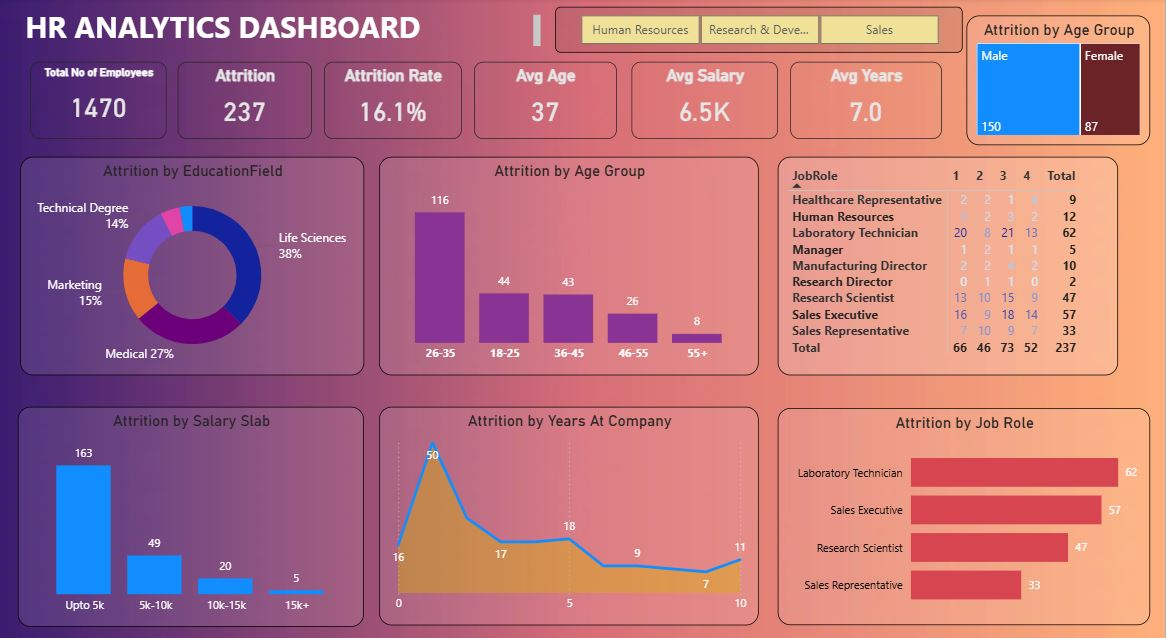

The page's visual inventory and layout, read from the dashboard file:
{"tool":"powerbi","page":{"name":"Page 1","canvas":[1280,720],"ordinal":0},"visuals":[{"type":"card","title":"Total No of Employees","fields":{"Values":["CountNonNull(HR_Analytics.EmpID)"]},"box":[34.3,70,149.6,85.1],"z":0},{"type":"card","title":"Attrition Rate","fields":{"Values":["HR_Analytics.AttritionRate"]},"box":[356.8,70,150.9,85.1],"z":1000},{"type":"card","title":"Attrition","fields":{"Values":["Sum(HR_Analytics.attritioncount)"]},"box":[196.2,70,146.8,85.1],"z":2000},{"type":"card","title":"Avg Age","fields":{"Values":["Avg(HR_Analytics.Age)"]},"box":[521.4,70,156.4,85.1],"z":3000},{"type":"card","title":"Avg Years","fields":{"Values":["Avg(HR_Analytics.YearsAtCompany)"]},"box":[868.6,70,166,85.1],"z":4000},{"type":"card","title":"Avg Salary","fields":{"Values":["Avg(HR_Analytics.MonthlyIncome)"]},"box":[694.3,70,160.5,85.1],"z":5000},{"type":"donutChart","title":"Attrition by EducationField","fields":{"Category":["HR_Analytics.EducationField"],"Y":["Sum(HR_Analytics.attritioncount)"]},"box":[23.3,174.3,377.4,240.1],"z":6000},{"type":"columnChart","title":"Attrition by Age Group","fields":{"Category":["HR_Analytics.AgeGroup"],"Y":["Sum(HR_Analytics.attritioncount)"]},"box":[417.2,174.3,417.2,240.1],"z":7000},{"type":"pivotTable","fields":{"Rows":["HR_Analytics.JobRole"],"Columns":["HR_Analytics.JobSatisfaction"],"Values":["Sum(HR_Analytics.attritioncount)"]},"box":[854.9,174.3,373.2,240.1],"z":8000},{"type":"columnChart","title":"Attrition by Salary Slab","fields":{"Category":["HR_Analytics.SalarySlab"],"Y":["Sum(HR_Analytics.attritioncount)"]},"box":[20.6,448.7,380.1,241.5],"z":9000},{"type":"barChart","title":"Attrition by Job Role","fields":{"Category":["HR_Analytics.JobRole"],"Y":["Sum(HR_Analytics.attritioncount)"]},"box":[854.9,450.1,408.9,238.8],"z":10000},{"type":"areaChart","title":"Attrition by Years At Company","fields":{"Category":["HR_Analytics.YearsAtCompany"],"Y":["Sum(HR_Analytics.attritioncount)"]},"box":[417.2,448.7,417.2,240.1],"z":11000},{"type":"treemap","title":"Attrition by Age Group","fields":{"Group":["HR_Analytics.Gender"],"Values":["Sum(HR_Analytics.attritioncount)"]},"box":[1062.1,19.2,201.7,142.7],"z":12000},{"type":"slicer","fields":{"Values":["HR_Analytics.Department"]},"box":[610.6,9.6,447.3,50.8],"z":12001},{"type":"textbox","box":[23.3,9.6,576.3,48],"z":12002}]}

Visuals, with their boxes in screenshot pixels (x1, y1, x2, y2), scaled from the page's 1280x720 canvas onto the 1166x638 screenshot:
"Total No of Employees" card: (31, 62, 168, 137)
"Attrition Rate" card: (325, 62, 462, 137)
"Attrition" card: (179, 62, 312, 137)
"Avg Age" card: (475, 62, 617, 137)
"Avg Years" card: (791, 62, 942, 137)
"Avg Salary" card: (632, 62, 779, 137)
"Attrition by EducationField" donutChart: (21, 154, 365, 367)
"Attrition by Age Group" columnChart: (380, 154, 760, 367)
pivotTable - HR_Analytics.JobRole x HR_Analytics.JobSatisfaction: (779, 154, 1119, 367)
"Attrition by Salary Slab" columnChart: (19, 398, 365, 612)
"Attrition by Job Role" barChart: (779, 399, 1151, 610)
"Attrition by Years At Company" areaChart: (380, 398, 760, 610)
"Attrition by Age Group" treemap: (968, 17, 1151, 143)
slicer - HR_Analytics.Department: (556, 9, 964, 54)
textbox: (21, 9, 546, 51)
